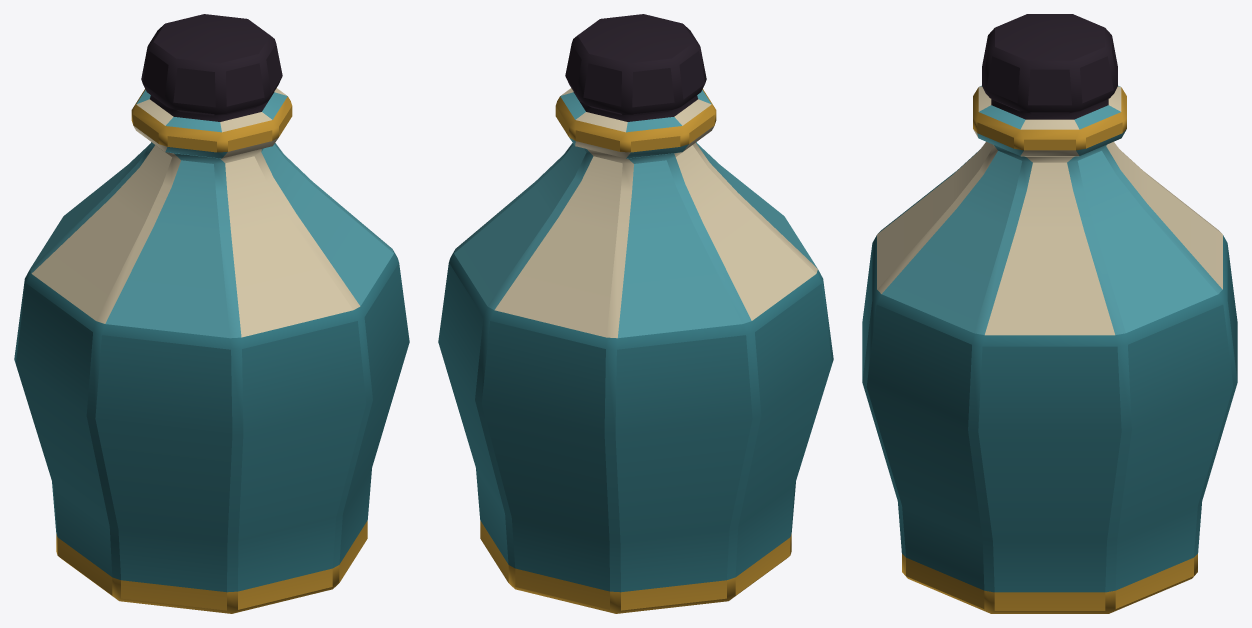
The model's file is Bottle_12.glb.
3 renders of one model, left to right at view 1: azimuth 30°, elevation 25°; view 2: azimuth 150°, elevation 25°; view 3: azimuth 270°, elevation 25°, orthographic.
Parts seen in each view (by area): view 1: Bottle_12; view 2: Bottle_12; view 3: Bottle_12.
Part boxes in pixels (x1,y1,x2,y2): Bottle_12: (14, 14, 409, 613); Bottle_12: (438, 14, 833, 613); Bottle_12: (862, 14, 1237, 613).
Size of the model in its own units: 1.56 by 2.4 by 1.56.
